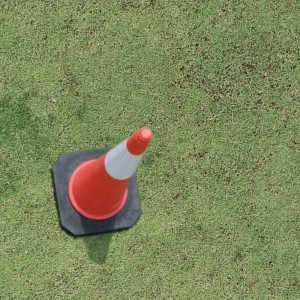traffic cone: (51, 126, 153, 236)
